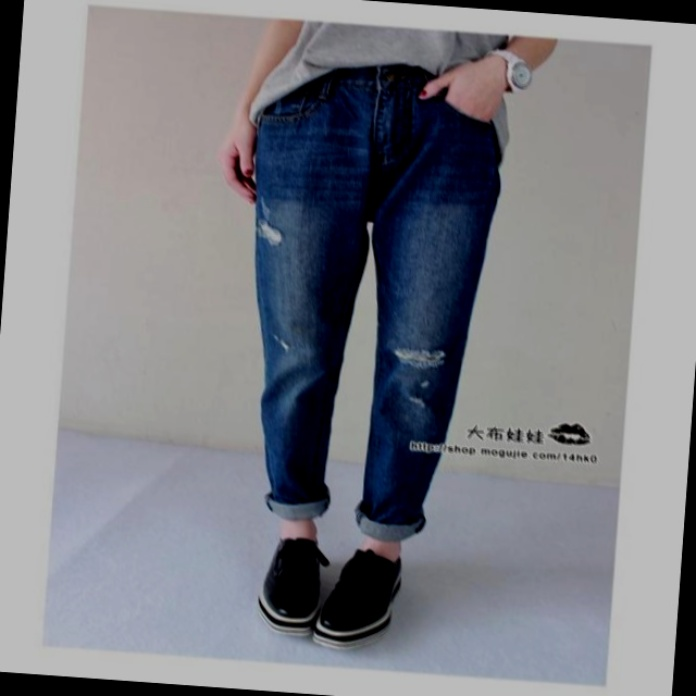ripped_pants: (208, 55, 521, 505)
